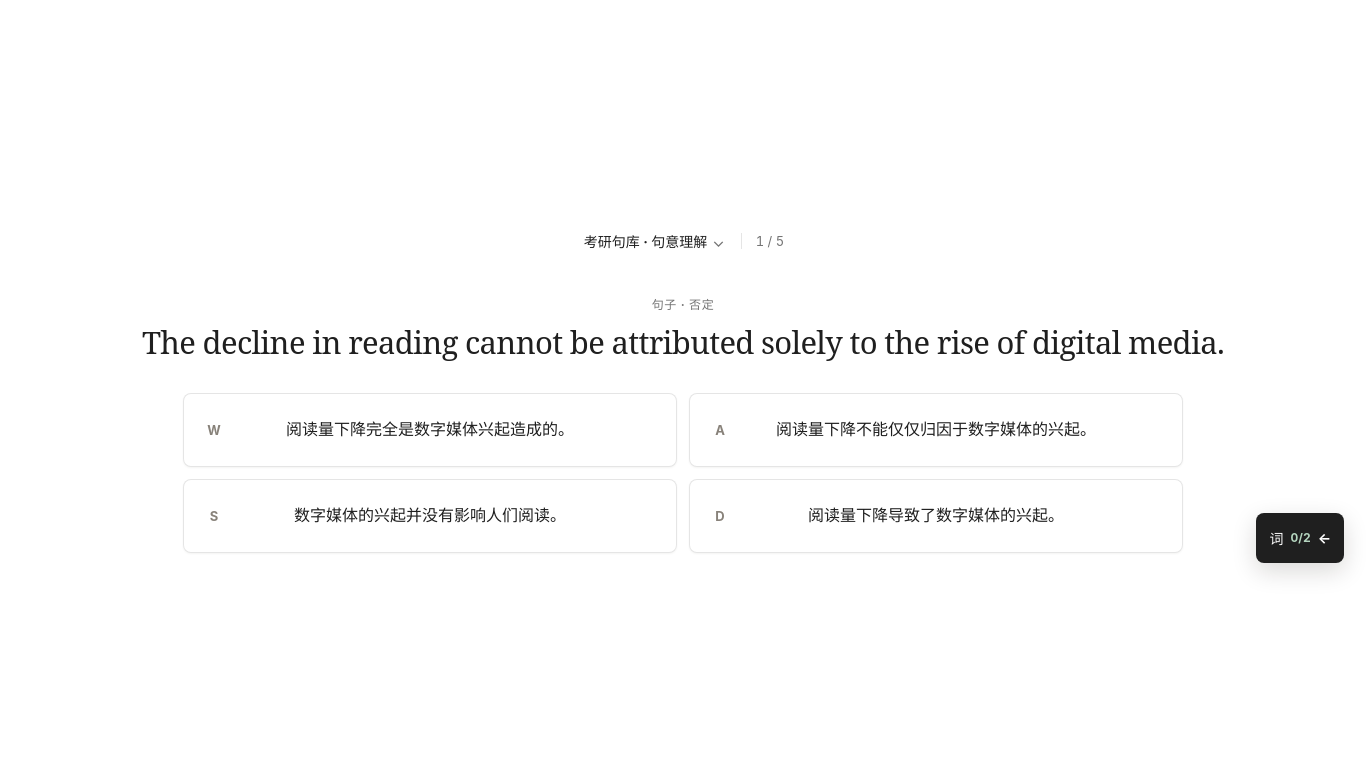
Scenario: training flow › keeps the existing reading flow and WASD shortcuts
The width and height of the screenshot is (1366, 768).
Press a
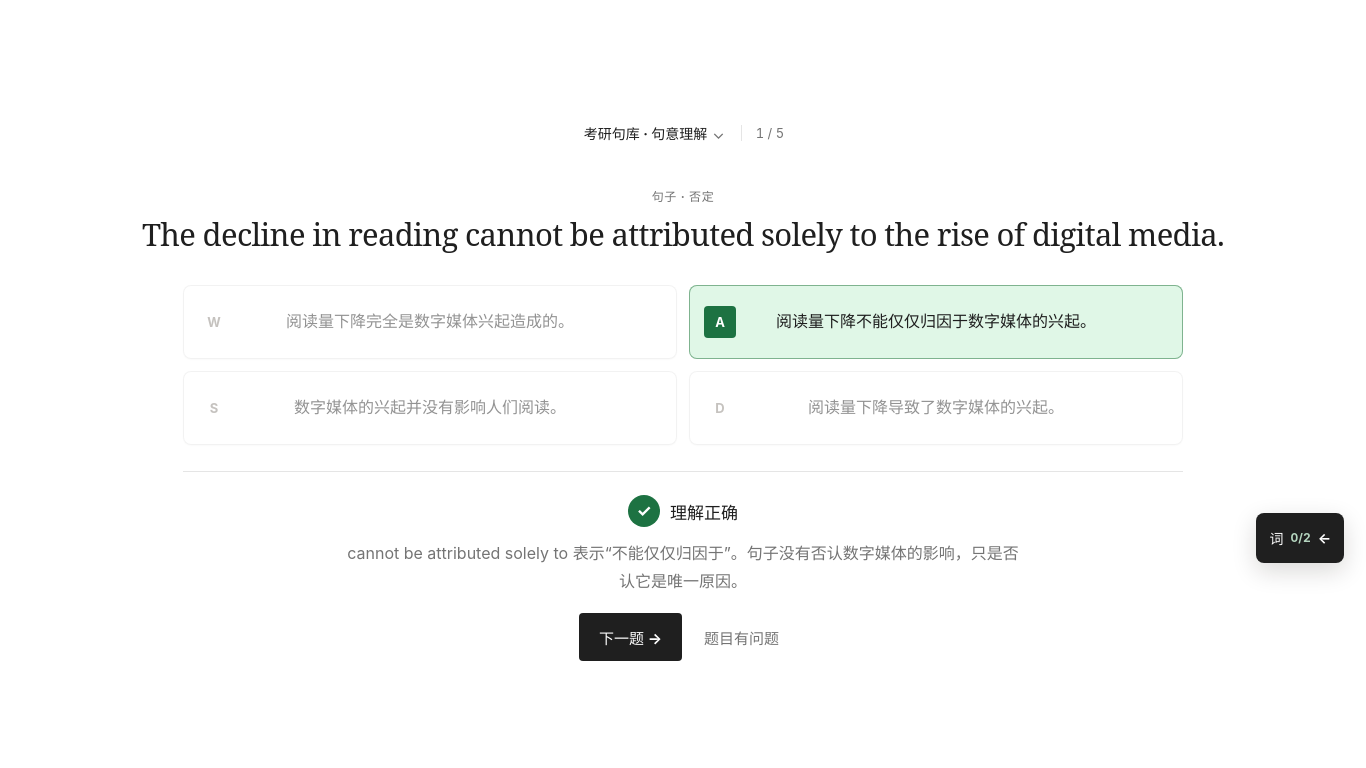
expect the text named "快捷键 W" is shown: met, box [198,306,230,338]
expect the text "理解正确" is shown: met, box [670,499,738,524]
Click the button "下一题 →".
click(630, 637)  # box [579,613,682,661]
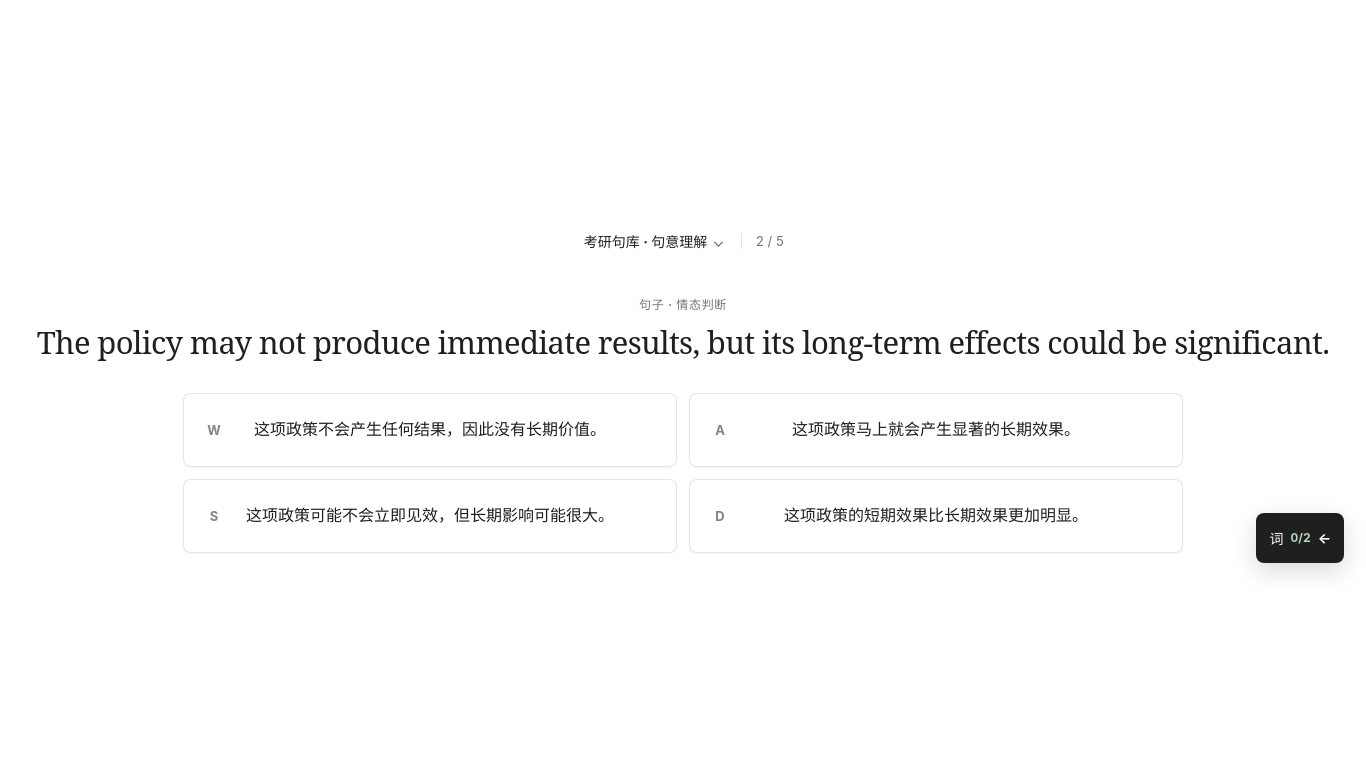
expect the text "The decline in reading cannot be attributed solely to the rise of digital media." is gone: met
